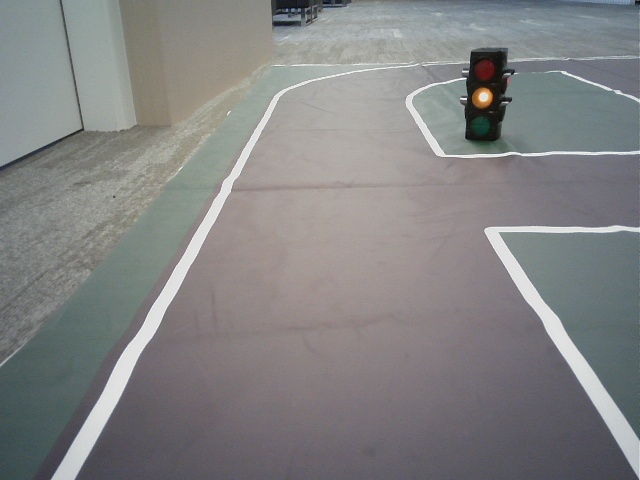yellow: (465, 56, 493, 135)
